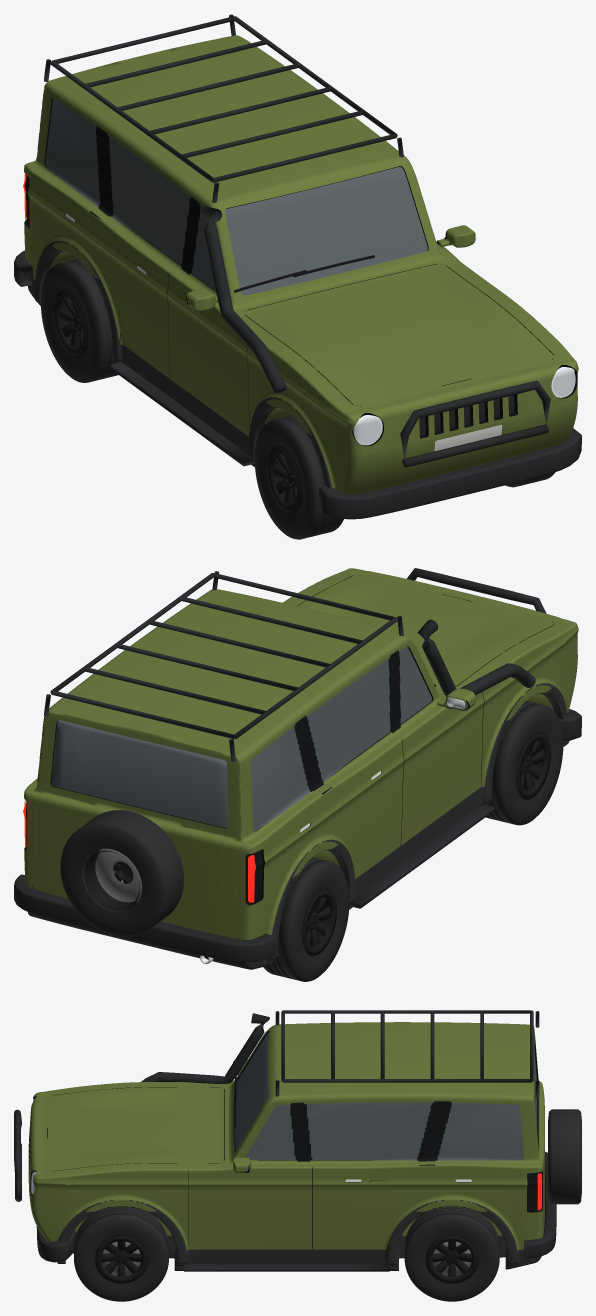
File: ironbark-ridgeback.fbx
3 views of the same model, one above another, from view 1: azimuth 30°, elevation 25°; view 2: azimuth 150°, elevation 25°; view 3: azimuth 270°, elevation 25° (orthographic). The views are drawn at different scales.
Visible parts, largest first — view 1: Body_LOD0, Glass_LOD0, RoofRack_LOD0, BumperFront_LOD0, Wheel_FR_LOD0, Wheel_RR_LOD0, Cladding_LOD0, BullBar_LOD0, Snorkel_LOD0, Walls_LOD0, Gloss_LOD0, SideSteps_LOD0 (+3 smaller); view 2: Body_LOD0, Glass_LOD0, Spare_LOD0, RoofRack_LOD0, Wheel_RR_LOD0, Wheel_FR_LOD0, Cladding_LOD0, BumperRear_LOD0, Gloss_LOD0, SideSteps_LOD0, Snorkel_LOD0, Walls_LOD0 (+2 smaller); view 3: Body_LOD0, Glass_LOD0, Wheel_RL_LOD0, Wheel_FL_LOD0, Cladding_LOD0, RoofRack_LOD0, Spare_LOD0, Gloss_LOD0, SideSteps_LOD0, Snorkel_LOD0, Walls_LOD0, BumperRear_LOD0 (+2 smaller).
Boxes of the visible parts, <box> form: Body_LOD0: <box>24,35,578,495</box>; Glass_LOD0: <box>45,98,447,295</box>; RoofRack_LOD0: <box>44,14,403,202</box>; BumperFront_LOD0: <box>319,428,581,519</box>; Wheel_FR_LOD0: <box>254,415,343,539</box>; Wheel_RR_LOD0: <box>40,258,118,382</box>; Cladding_LOD0: <box>28,241,332,517</box>; BullBar_LOD0: <box>400,380,550,467</box>; Snorkel_LOD0: <box>201,206,286,393</box>; Walls_LOD0: <box>24,98,577,446</box>; Gloss_LOD0: <box>24,126,200,274</box>; SideSteps_LOD0: <box>110,362,254,466</box>; Body_LOD0: <box>24,568,578,939</box>; Glass_LOD0: <box>51,646,468,831</box>; Spare_LOD0: <box>60,810,183,936</box>; RoofRack_LOD0: <box>44,571,403,761</box>; Wheel_RR_LOD0: <box>263,857,349,981</box>; Wheel_FR_LOD0: <box>485,701,563,825</box>; Cladding_LOD0: <box>28,683,569,969</box>; BumperRear_LOD0: <box>14,874,275,962</box>; Gloss_LOD0: <box>26,650,401,904</box>; SideSteps_LOD0: <box>349,804,494,908</box>; Snorkel_LOD0: <box>417,619,535,696</box>; Walls_LOD0: <box>24,575,565,937</box>; Body_LOD0: <box>28,1022,544,1250</box>; Glass_LOD0: <box>235,1032,537,1171</box>; Wheel_RL_LOD0: <box>404,1206,499,1301</box>; Wheel_FL_LOD0: <box>74,1206,168,1301</box>; Cladding_LOD0: <box>57,1200,541,1270</box>; RoofRack_LOD0: <box>275,1010,539,1097</box>; Spare_LOD0: <box>548,1109,581,1204</box>; Gloss_LOD0: <box>290,1101,541,1211</box>; SideSteps_LOD0: <box>184,1264,389,1271</box>; Snorkel_LOD0: <box>141,1013,269,1083</box>; Walls_LOD0: <box>29,1031,542,1250</box>; BumperRear_LOD0: <box>524,1151,556,1258</box>.
Size of what is drawn, in the model's own units: 2.17 by 2.01 by 4.9.
